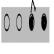correct: (41, 10, 47, 34)
no answer: (16, 11, 23, 33)
not correct: (28, 0, 36, 33)
